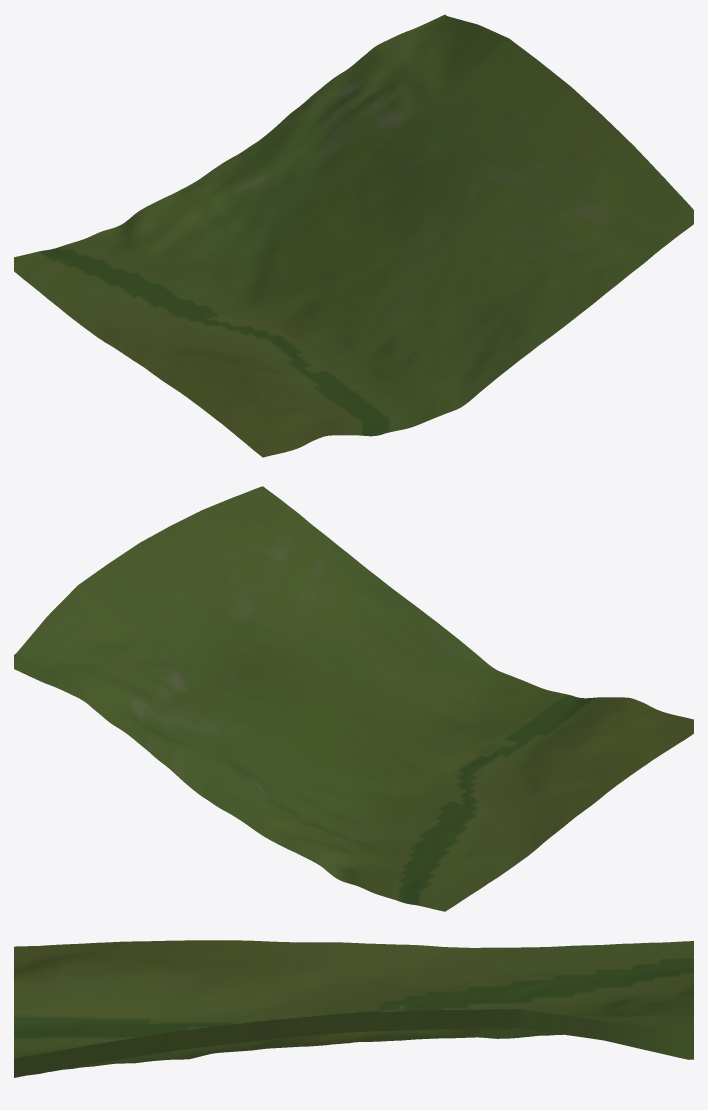
File: terrain_9_-15.glb
3 views of the same model, one above another, from view 1: azimuth 30°, elevation 25°; view 2: azimuth 150°, elevation 25°; view 3: azimuth 270°, elevation 25° (orthographic). The views are drawn at different scales.
Parts seen in each view (by area): view 1: terrain_9_-15; view 2: terrain_9_-15; view 3: terrain_9_-15.
Part boxes in pixels (<box>): terrain_9_-15: <box>14,14,693,457</box>; terrain_9_-15: <box>14,486,693,911</box>; terrain_9_-15: <box>14,940,693,1077</box>.
Size of the model in its own units: 256 by 105 by 256.
